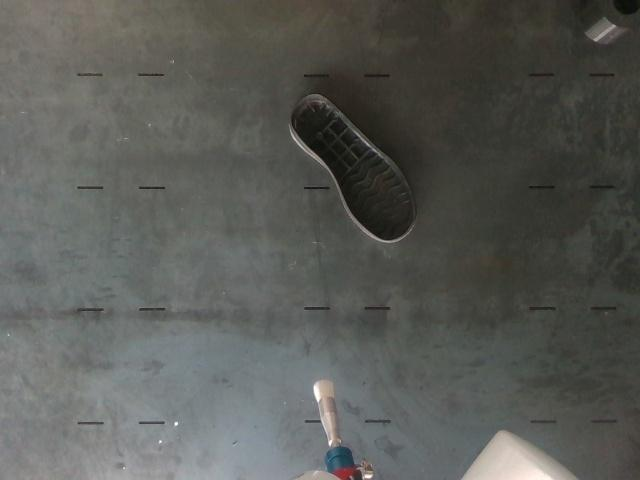shoes: (292, 95, 414, 241)
